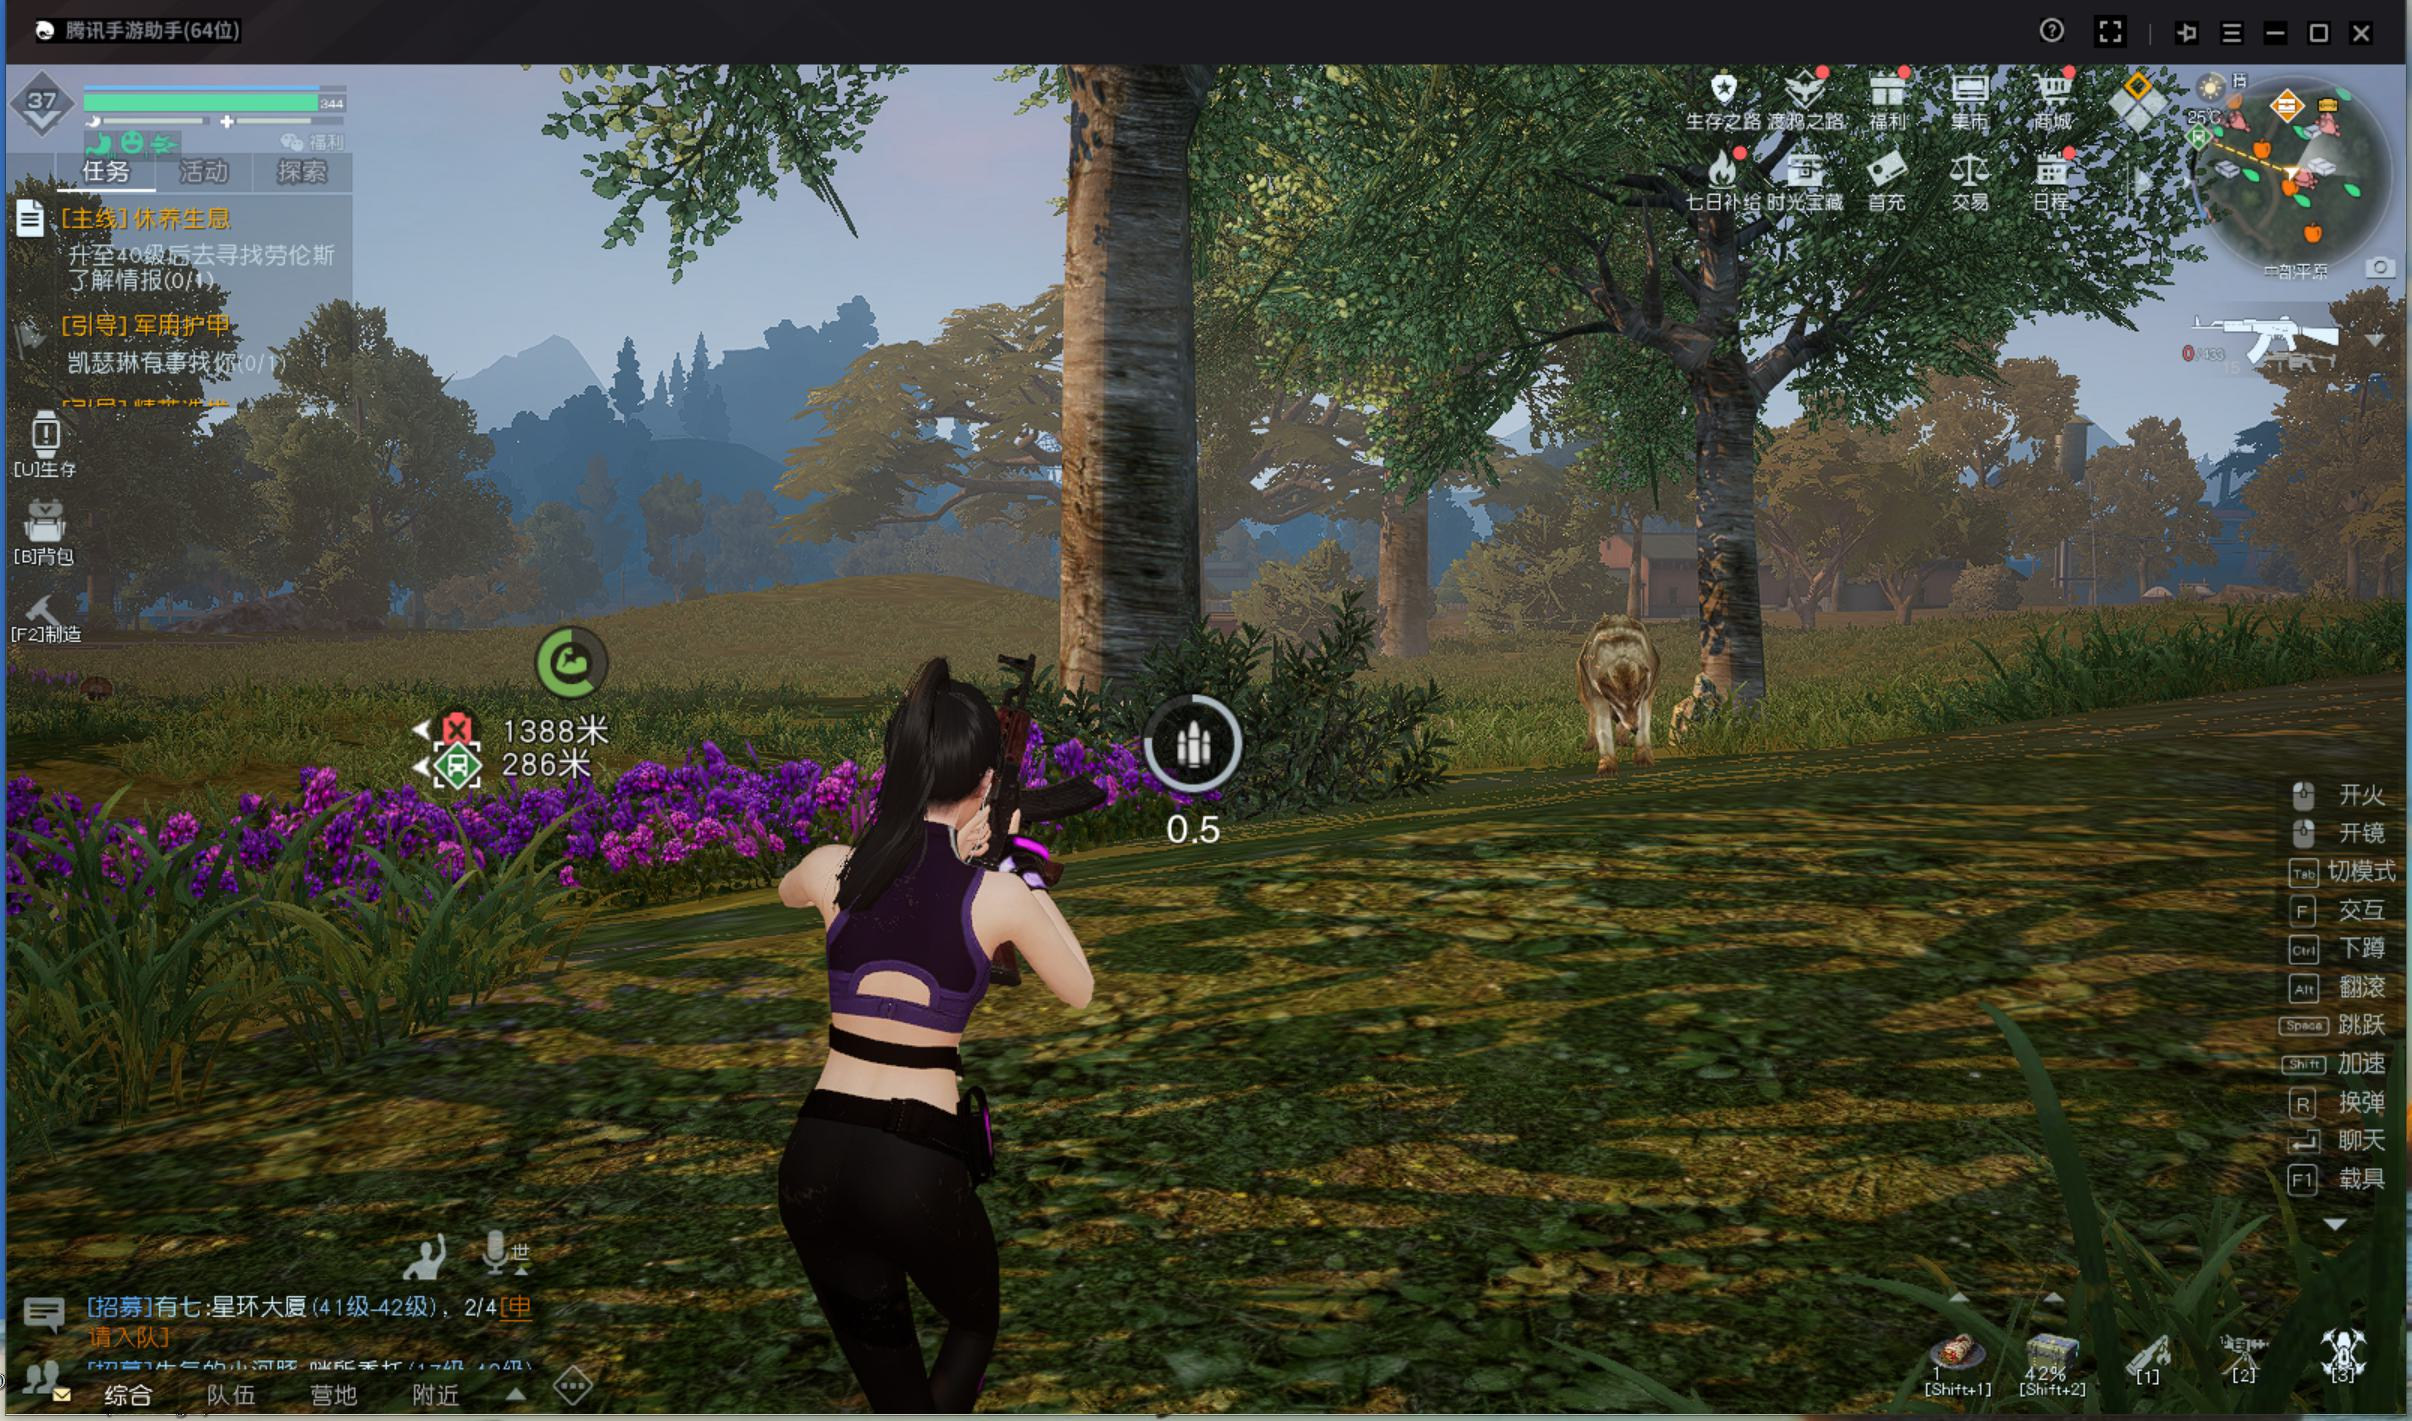tree: (1042, 171, 1225, 765), (1661, 392, 1793, 753), (1353, 494, 1443, 700)
